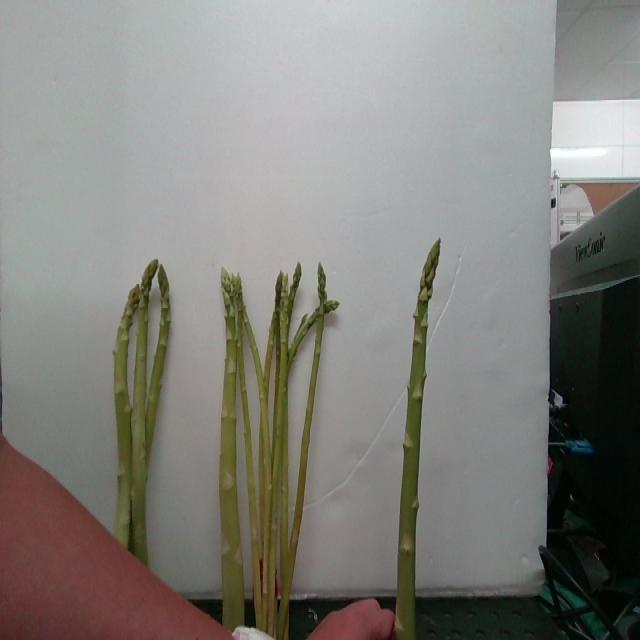aspargus: (276, 264, 328, 640), (394, 241, 442, 640)
